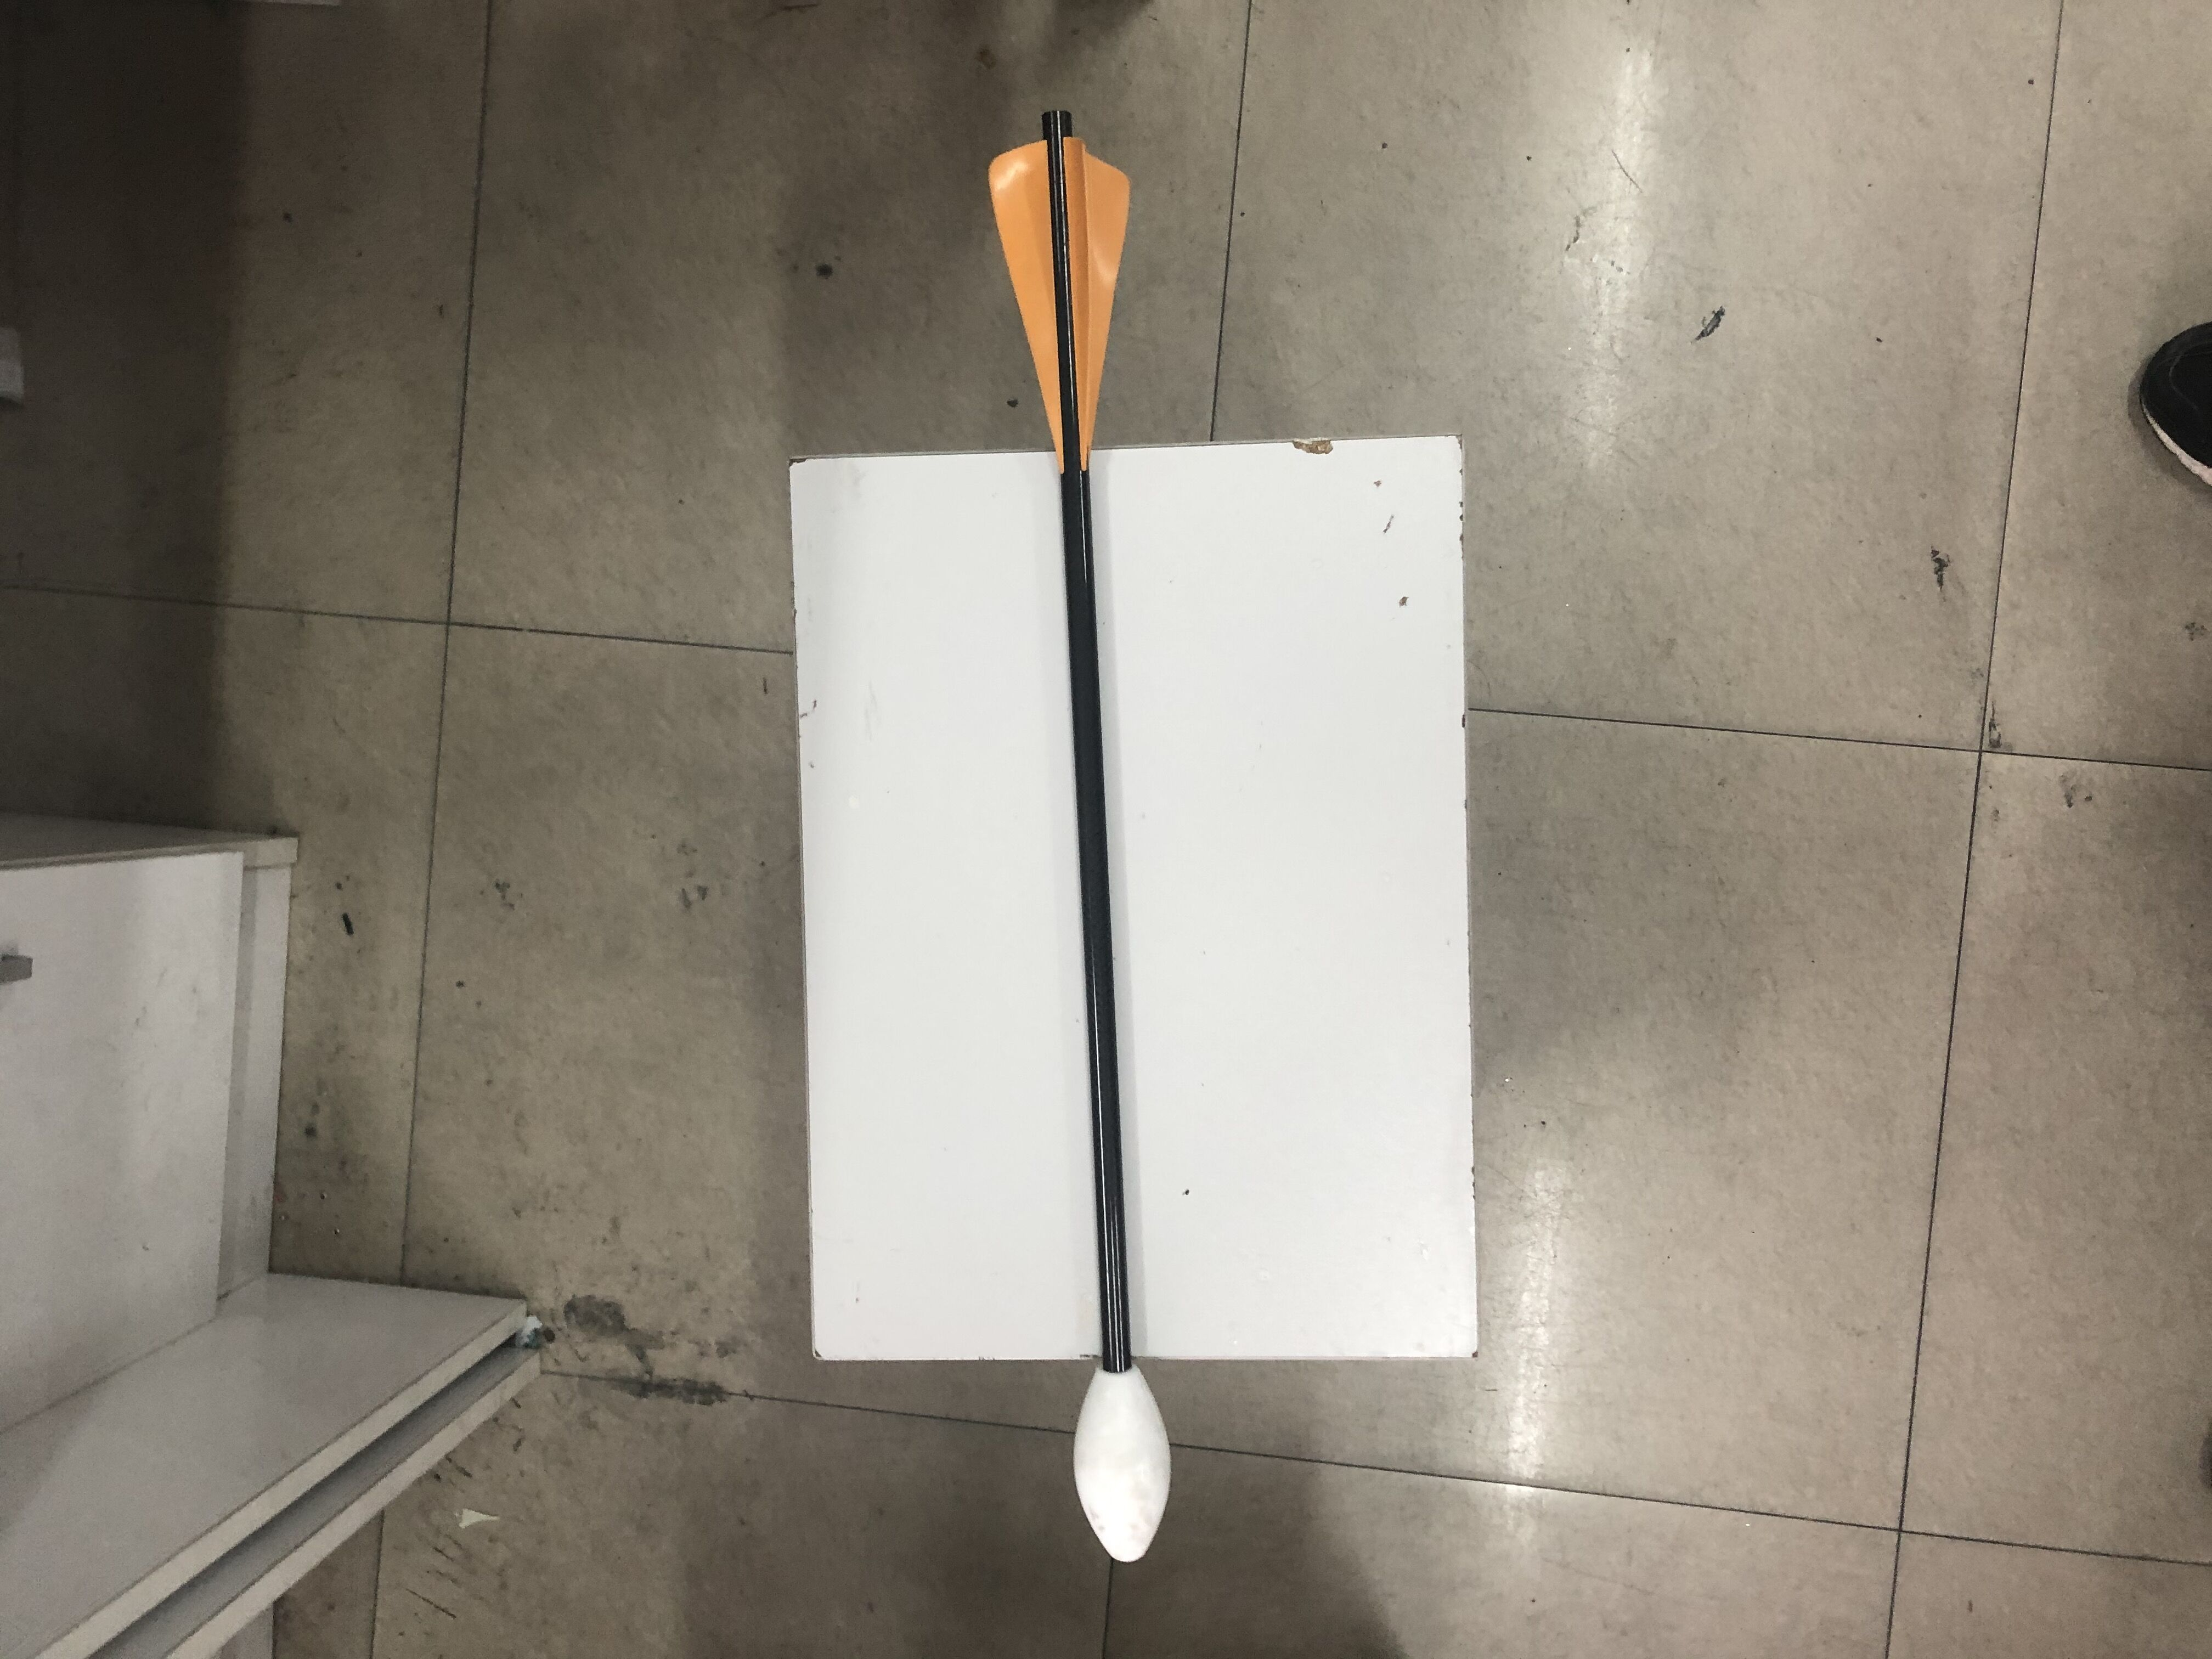arrow: (981, 103, 1176, 1567)
arrowFront: (1073, 1361, 1170, 1565)
